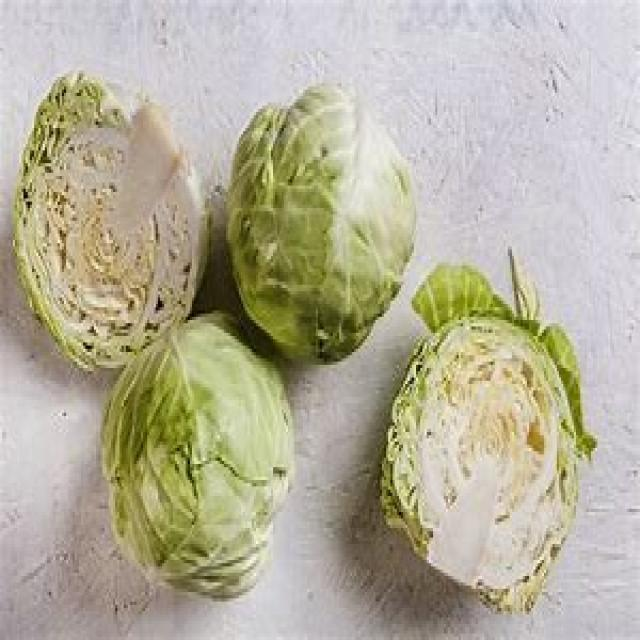cabbage: (379, 261, 595, 620), (92, 313, 294, 606), (15, 71, 212, 366), (217, 80, 411, 356)
